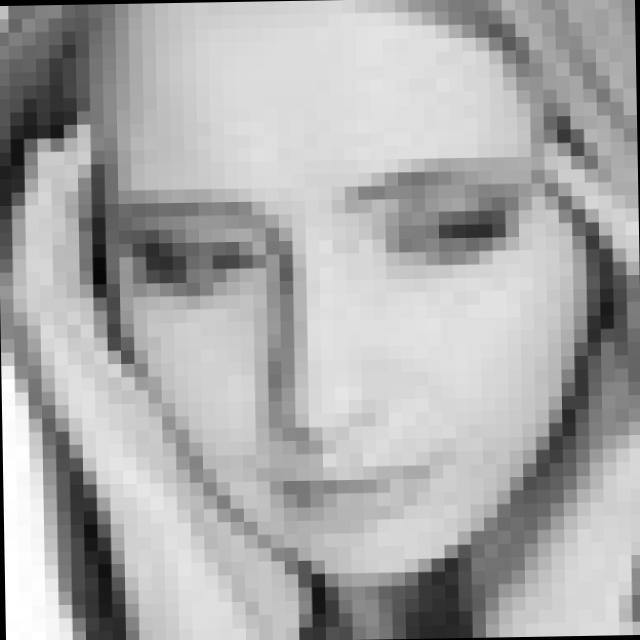sad: (116, 148, 557, 542)
